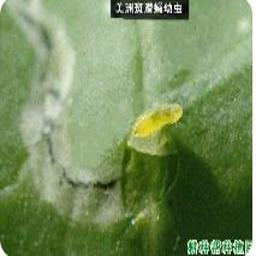liriomyza: (4, 1, 123, 226), (129, 101, 185, 138)
